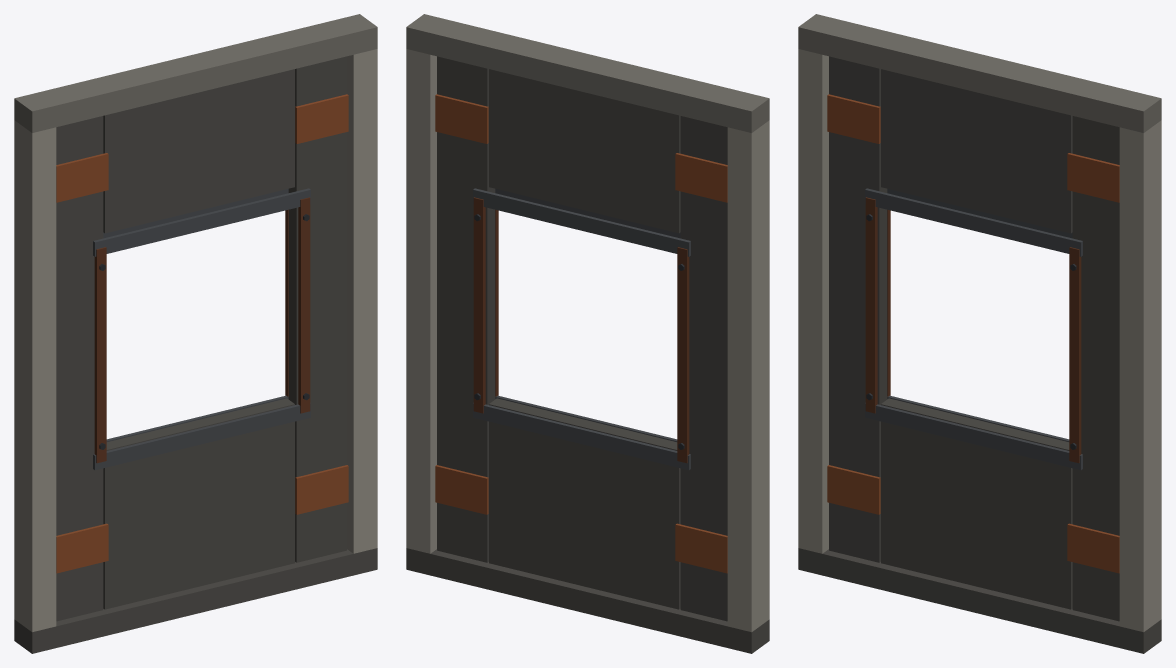
File: piece_wall_window.fbx
The picture shows the model from 3 angles, left to right: view 1: azimuth 30°, elevation 25°; view 2: azimuth 150°, elevation 25°; view 3: azimuth 330°, elevation 25°; orthographic projection.
Visible parts, largest first — view 1: piece_wall_window; view 2: piece_wall_window; view 3: piece_wall_window.
Boxes of the visible parts, left/top/right/bottom form: piece_wall_window: left=14, top=14, right=377, bottom=653; piece_wall_window: left=406, top=14, right=769, bottom=653; piece_wall_window: left=798, top=14, right=1161, bottom=653.
Bounding box in the file's own units: 2 × 3 × 0.182.
